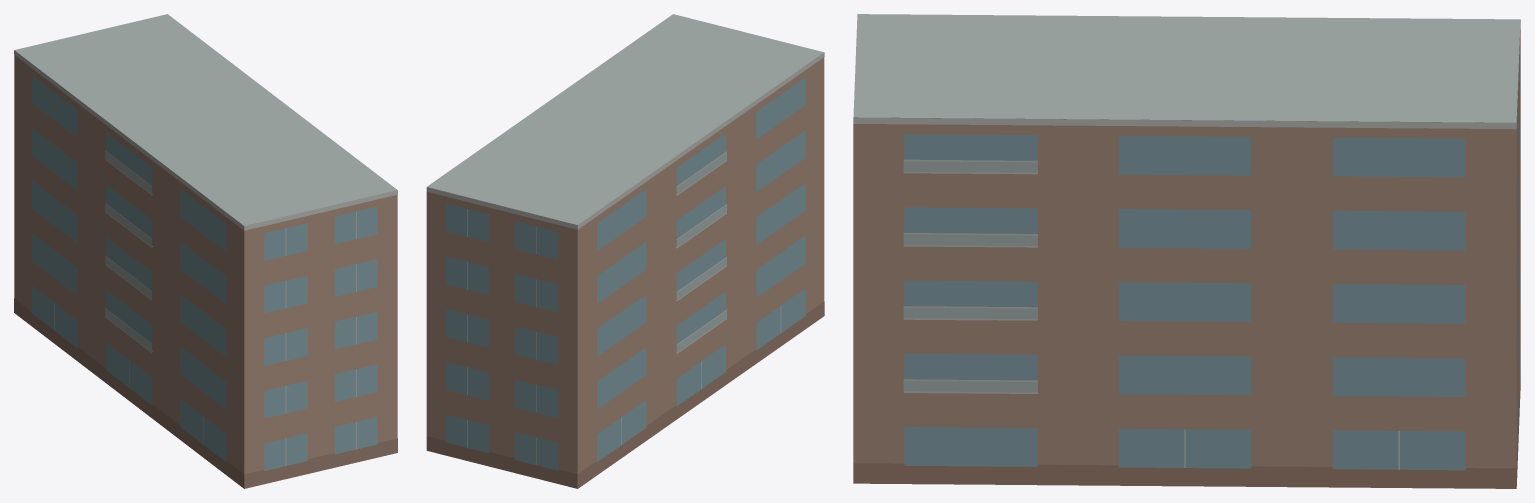
Rendered from survey-upis-32638114.glb.
3 views of the same model, side by side, from view 1: azimuth 30°, elevation 25°; view 2: azimuth 150°, elevation 25°; view 3: azimuth 270°, elevation 25° (orthographic). The views are drawn at different scales.
Parts seen in each view (by area): view 1: survey-upis-32638114.tmp; view 2: survey-upis-32638114.tmp; view 3: survey-upis-32638114.tmp.
Boxes of the visible parts, x1,y1,x2,y2 form: survey-upis-32638114.tmp: [14, 14, 397, 488]; survey-upis-32638114.tmp: [426, 14, 824, 488]; survey-upis-32638114.tmp: [853, 14, 1520, 488].
Bounding box in the file's own units: 8.8 × 13.8 × 22.8.
